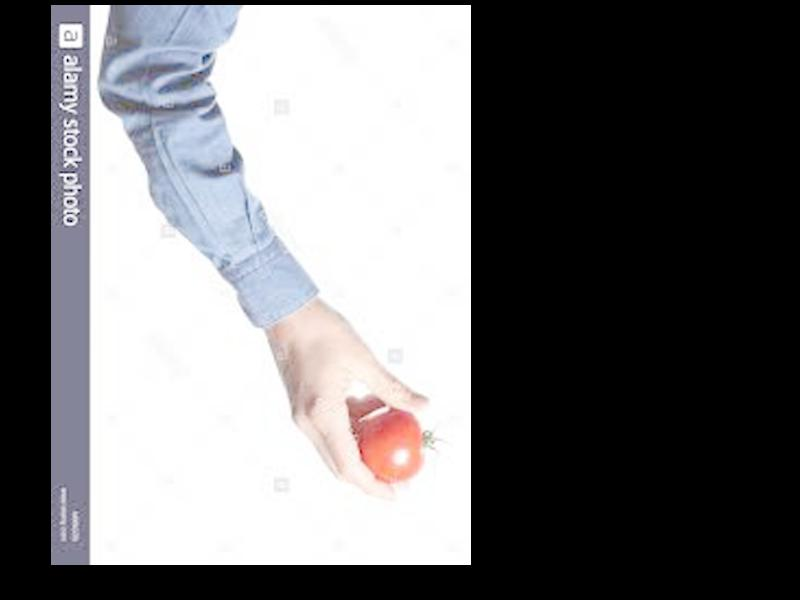Tomato: (361, 411, 422, 484)
